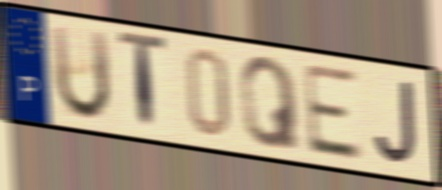0: (183, 45, 233, 141)
E: (300, 60, 365, 164)
J: (372, 79, 419, 167)
Q: (237, 55, 303, 154)
T: (115, 28, 169, 138)
U: (48, 21, 113, 124)
